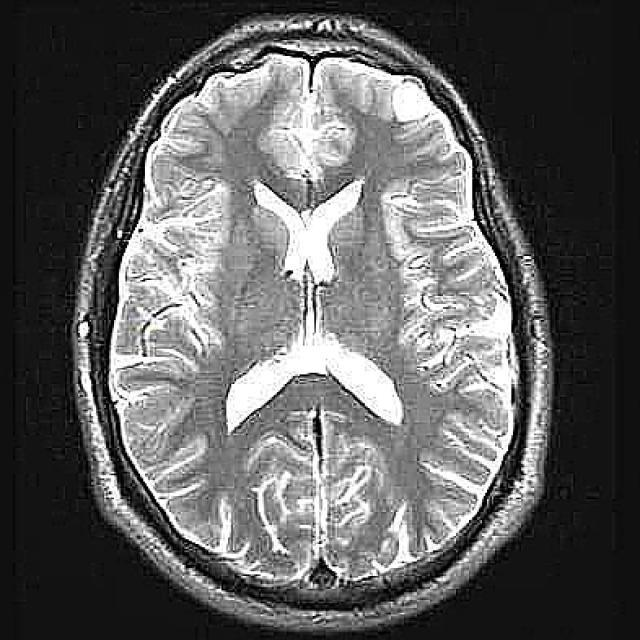notumor: (72, 14, 555, 632)
